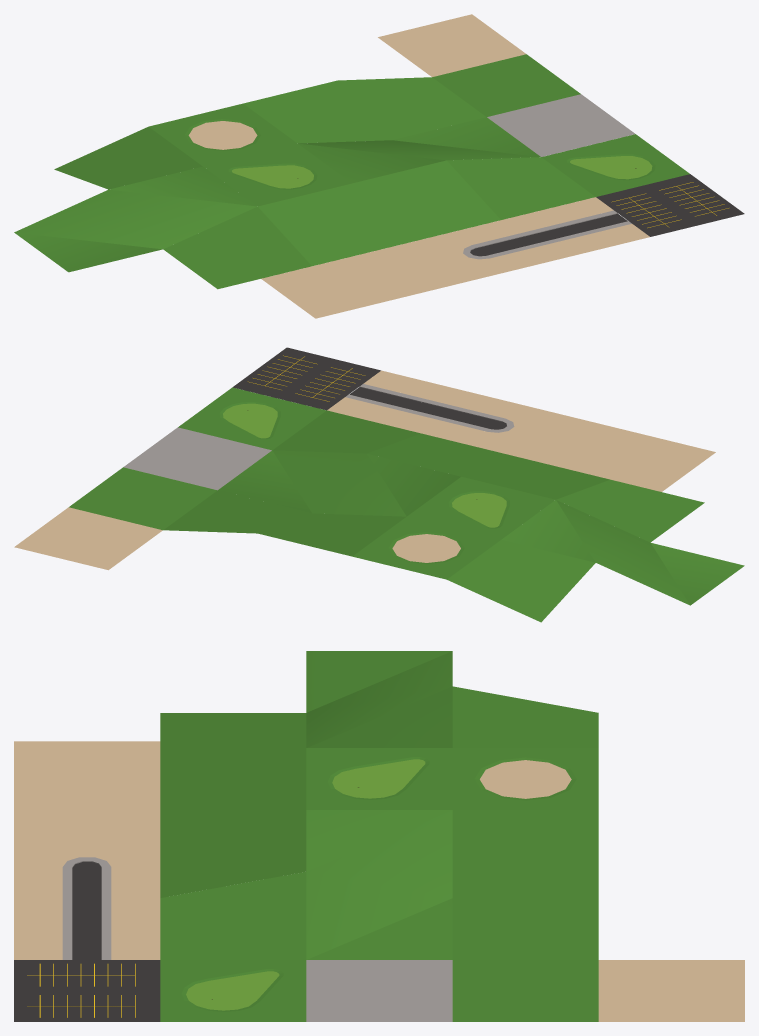
Rendered from road-zone-resort.glb.
3 renders of one model, top to bottom at view 1: azimuth 30°, elevation 25°; view 2: azimuth 150°, elevation 25°; view 3: azimuth 270°, elevation 25°, orthographic. The views are drawn at different scales.
Visible parts, largest first — view 1: tile-hill-curve-nb.001, tile-plain-nb.081, tile-hill-curve-nb, tile-hill-nb.001, tile-hill-nb, tile-hill-corner-nb.002, tile-hill-valley-nb, tile-hill-corner-nb, tile-hill-corner-nb.001, tile-plain-nb.026, tile-golf-green-nb, tile-golf-sand-nb (+8 smaller); view 2: tile-hill-curve-nb, tile-hill-curve-nb.001, tile-plain-nb.081, tile-hill-valley-nb.001, tile-golf-sand-nb, parking-lot, tile-golf-green-nb, tile-plain-nb.026, tile-plain-nb.068, hotel-front, tile-golf-green-nb.001, tile-road-end-nb.005 (+8 smaller); view 3: tile-hill-curve-nb, tile-hill-curve-nb.001, tile-plain-nb.081, tile-hill-corner-nb.001, tile-hill-valley-nb, tile-hill-corner-nb, tile-road-end-nb.005, tile-hill-nb.001, tile-hill-nb, tile-plain-nb.026, hotel-front, tile-golf-green-nb (+8 smaller).
Boxes of the visible parts, left/top/right/bottom form: tile-hill-curve-nb.001: left=14, top=166, right=257, bottom=272; tile-plain-nb.081: left=261, top=243, right=461, bottom=318; tile-hill-curve-nb: left=298, top=117, right=540, bottom=183; tile-hill-nb.001: left=258, top=183, right=406, bottom=266; tile-hill-nb: left=352, top=160, right=500, bottom=242; tile-hill-corner-nb.002: left=163, top=206, right=311, bottom=289; tile-hill-valley-nb: left=243, top=80, right=391, bottom=143; tile-hill-corner-nb: left=338, top=77, right=486, bottom=139; tile-hill-corner-nb.001: left=447, top=157, right=595, bottom=219; tile-plain-nb.026: left=378, top=14, right=526, bottom=76; tile-golf-green-nb: left=203, top=143, right=351, bottom=206; tile-golf-sand-nb: left=149, top=103, right=297, bottom=166; tile-hill-curve-nb: left=218, top=450, right=460, bottom=516; tile-hill-curve-nb.001: left=501, top=500, right=744, bottom=605; tile-plain-nb.081: left=516, top=416, right=715, bottom=491; tile-hill-valley-nb.001: left=447, top=540, right=595, bottom=622; tile-golf-sand-nb: left=352, top=517, right=500, bottom=579; parking-lot: left=232, top=347, right=380, bottom=410; tile-golf-green-nb: left=407, top=476, right=555, bottom=539; tile-plain-nb.026: left=14, top=507, right=162, bottom=570; tile-plain-nb.068: left=69, top=467, right=216, bottom=530; hotel-front: left=123, top=427, right=271, bottom=490; tile-golf-green-nb.001: left=178, top=387, right=326, bottom=450; tile-road-end-nb.005: left=421, top=393, right=569, bottom=456; tile-hill-curve-nb: left=306, top=810, right=452, bottom=959; tile-hill-curve-nb.001: left=306, top=651, right=452, bottom=747; tile-plain-nb.081: left=14, top=741, right=160, bottom=836; tile-hill-corner-nb.001: left=160, top=872, right=306, bottom=959; tile-hill-valley-nb: left=452, top=810, right=598, bottom=897; tile-hill-corner-nb: left=452, top=872, right=598, bottom=959; tile-road-end-nb.005: left=14, top=836, right=160, bottom=899; tile-hill-nb.001: left=160, top=748, right=306, bottom=836; tile-hill-nb: left=160, top=810, right=306, bottom=897; tile-plain-nb.026: left=598, top=960, right=744, bottom=1021; hotel-front: left=306, top=960, right=452, bottom=1021; tile-golf-green-nb: left=306, top=748, right=452, bottom=809.
Size of the model in its own units: 180 by 6.53 by 150.
Materials: 14 (1 with a texture image).
